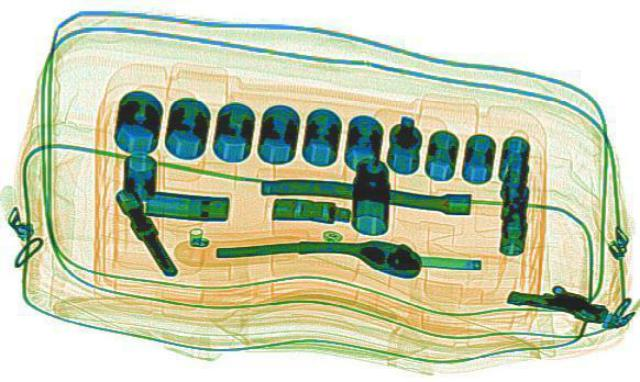Gun: (500, 274, 624, 323)
